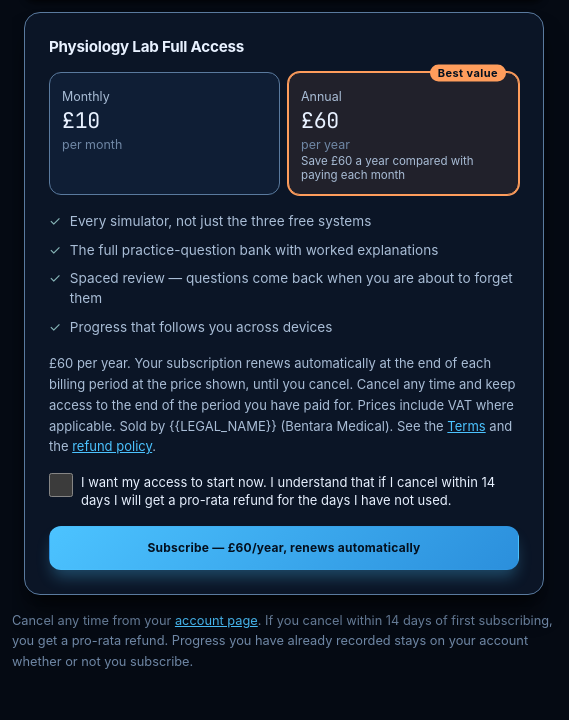
Test case: pricing page › will not start a checkout until the learner asks for access to start now
(page scrolled)
Check: the text "£60" is shown, box [301,106,339,134]
Click the button "Subscribe — £60/year, renews automatically" at (284, 548), box [49,526,519,570]
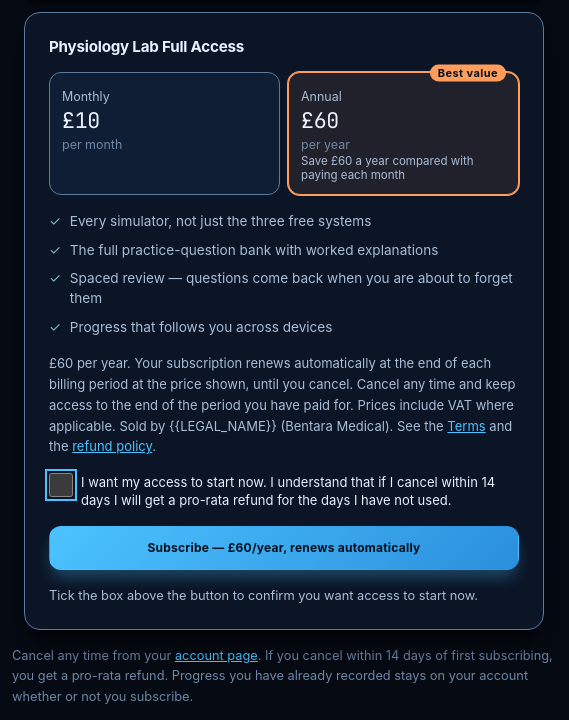
Check: the text "Tick the box above the button to confirm you want access to start now." is shown, box [49,586,519,605]
